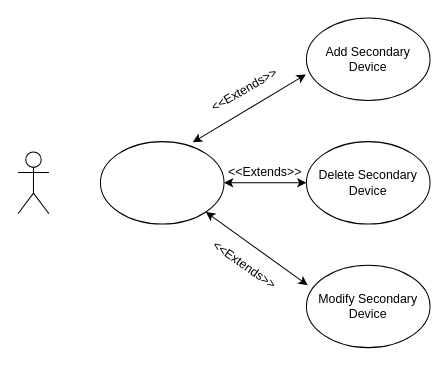
Some shapes in this 448 by 366 pixel diagram are drawn without their labels. The centre of each missing label's shape, as x and y in pixels:
"User" belongs at pixel 33 182.
"View Secondary Devices" belongs at pixel 161 182.
